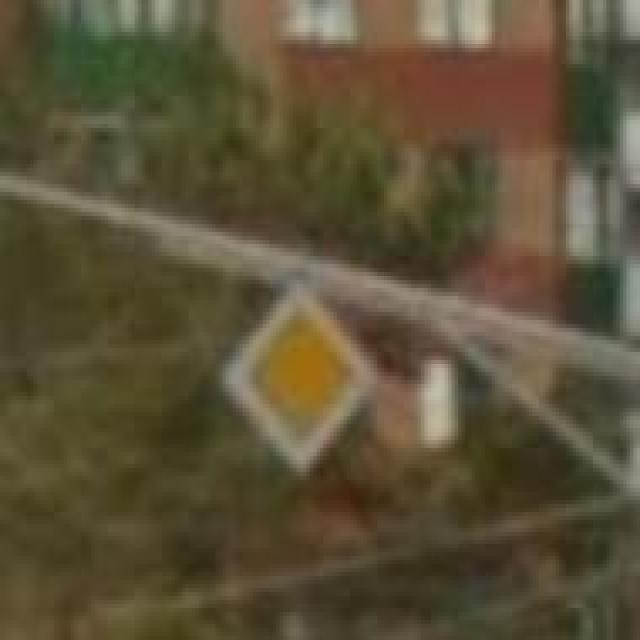Priority road: (216, 276, 380, 484)
